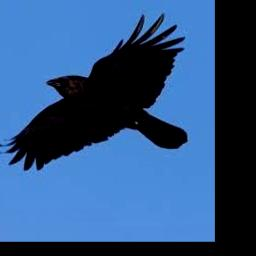Crow: (0, 13, 189, 170)
